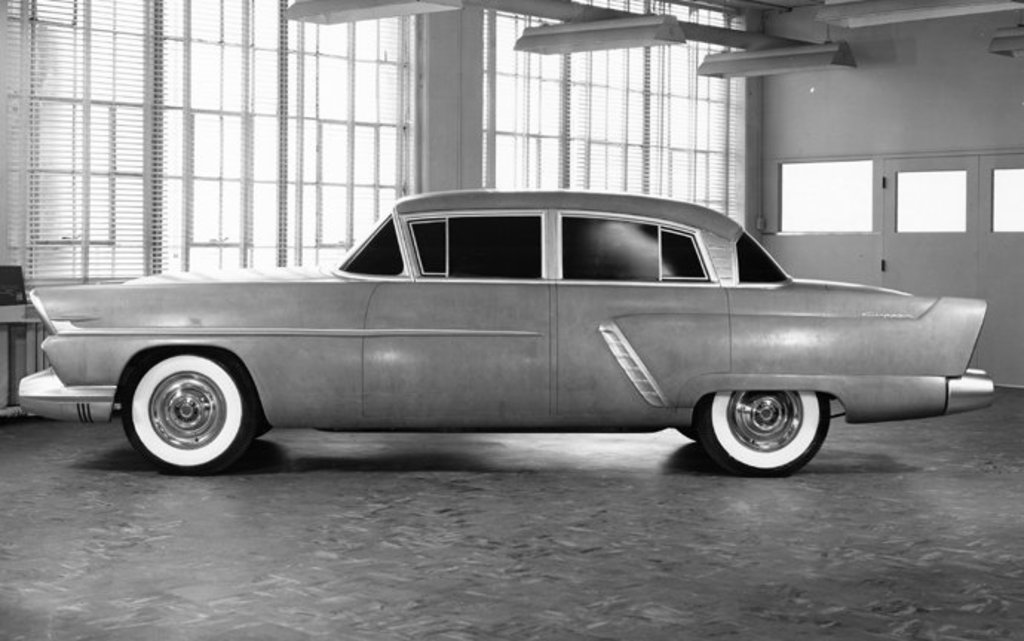Car: (16, 188, 998, 480)
